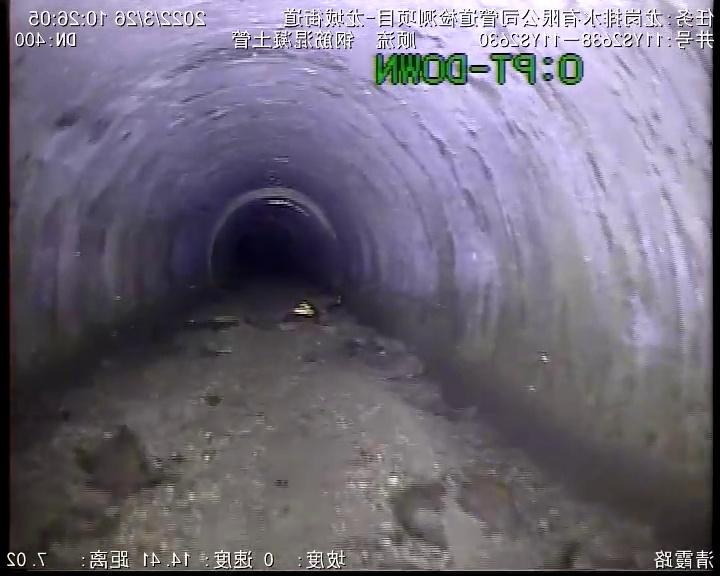CJ: (10, 275, 672, 568)
CKTJ: (203, 183, 347, 294)
